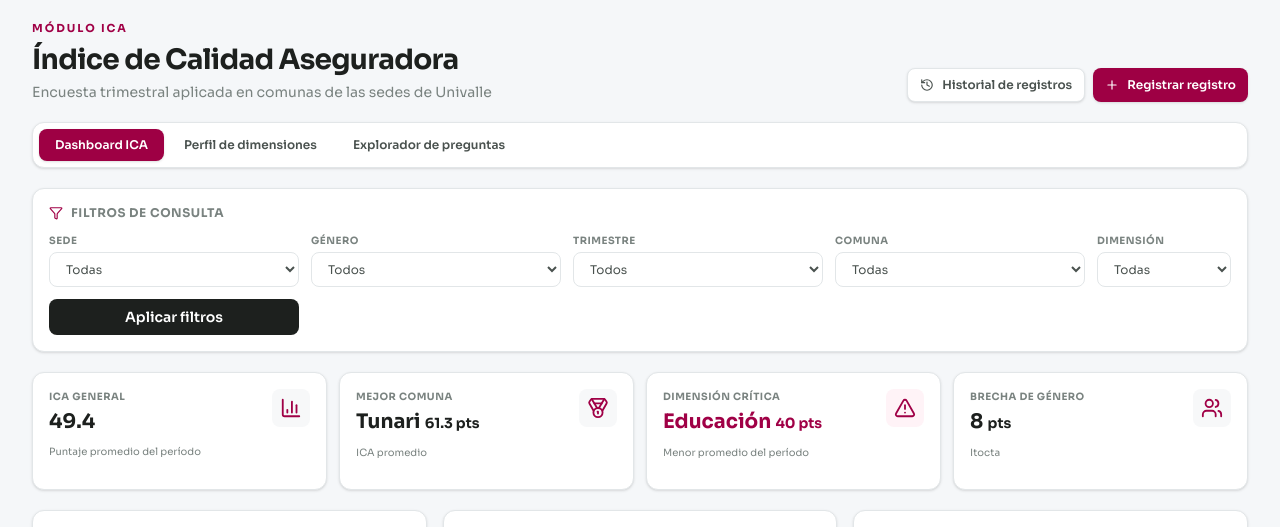
Test: ICAPage — Admin/Superadmin logueado › un Superadmin ve los botones de exportar respuestas en el explorador
Click the button "Explorador de preguntas" at (429, 145), box left=337, top=129, right=521, bottom=161
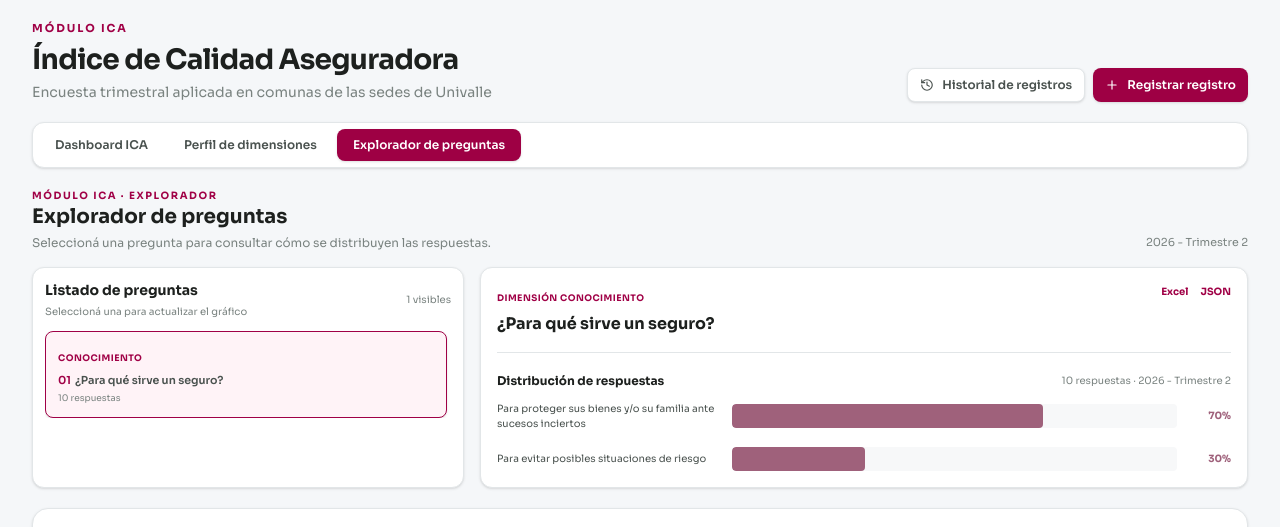
Result: the button "Excel" is shown at left=1161, top=284, right=1188, bottom=299
Result: the button "JSON" is shown at left=1200, top=284, right=1231, bottom=299
